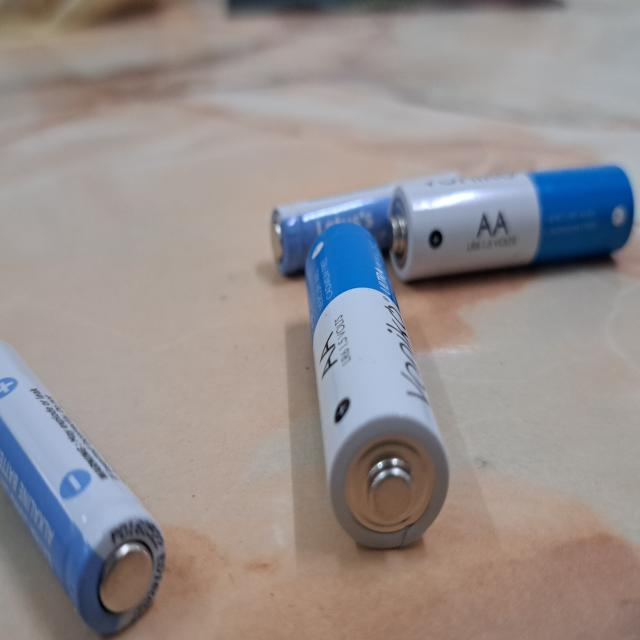battery: (0, 340, 168, 640), (304, 223, 450, 552), (388, 164, 637, 280), (270, 169, 464, 276)
